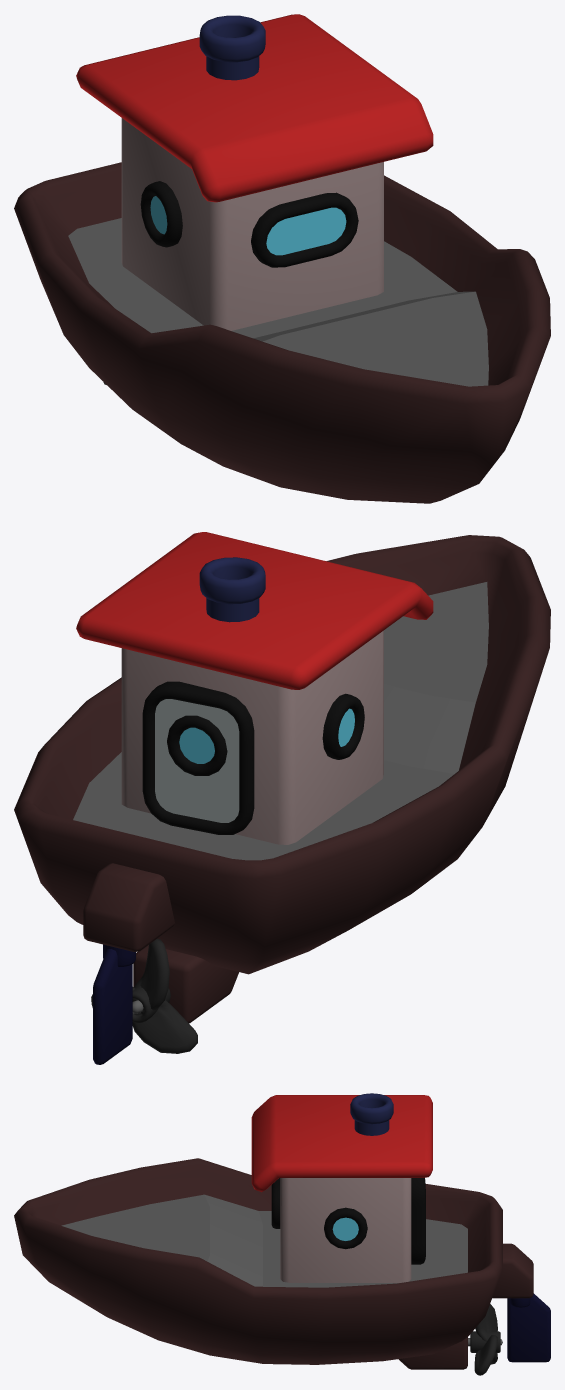
The model's file is LastLuna_Model_Object_Fishing_Boat.fbx.
The picture shows the model from 3 angles, top to bottom: view 1: azimuth 30°, elevation 25°; view 2: azimuth 150°, elevation 25°; view 3: azimuth 270°, elevation 25°; orthographic projection. The views are drawn at different scales.
Parts seen in each view (by area): view 1: Boat001, Boat_Roof001, Boat_Room001, Boat_Deck001, Boat_Window_Frame001, Boat_Chimney001, Boat_Window001; view 2: Boat001, Boat_Roof001, Boat_Deck001, Boat_Room001, Door_Pannel001, Rudder_Base001, Boat_Door001, Propeller001, Rudder001, Propeller_Base, Boat_Chimney001, Door_Window_Frame001 (+2 smaller); view 3: Boat001, Boat_Roof001, Boat_Deck001, Boat_Room001, Rudder001, Rudder_Base001, Boat_Chimney001, Boat_Window_Frame001, Propeller001, Boat_Door001, Propeller_Base, Boat_Window001.
Boxes of the visible parts, x1,y1,x2,y2 form: Boat001: (14, 162, 550, 503); Boat_Roof001: (76, 14, 433, 202); Boat_Room001: (121, 118, 383, 330); Boat_Deck001: (68, 218, 488, 386); Boat_Window_Frame001: (140, 181, 358, 267); Boat_Chimney001: (199, 15, 265, 80); Boat_Window001: (150, 196, 346, 255); Boat001: (14, 535, 550, 974); Boat_Roof001: (76, 532, 433, 689); Boat_Deck001: (73, 582, 488, 860); Boat_Room001: (121, 630, 383, 844); Door_Pannel001: (155, 699, 239, 822); Rudder_Base001: (83, 863, 174, 951); Boat_Door001: (142, 681, 254, 834); Propeller001: (91, 938, 197, 1053); Rudder001: (93, 944, 135, 1064); Propeller_Base: (133, 945, 238, 1023); Boat_Chimney001: (199, 557, 265, 622); Door_Window_Frame001: (167, 715, 227, 775); Boat001: (14, 1158, 502, 1364); Boat_Roof001: (251, 1095, 432, 1192); Boat_Deck001: (61, 1194, 467, 1287); Boat_Room001: (280, 1178, 411, 1282); Rudder001: (507, 1293, 550, 1362); Rudder_Base001: (492, 1243, 533, 1298); Boat_Chimney001: (350, 1093, 393, 1135); Boat_Window_Frame001: (271, 1178, 367, 1249); Propeller001: (470, 1304, 500, 1375); Boat_Door001: (411, 1178, 425, 1264); Propeller_Base: (398, 1337, 467, 1369); Boat_Window001: (332, 1217, 358, 1240).
Size of the model in its own units: 815 by 854 by 1538.
